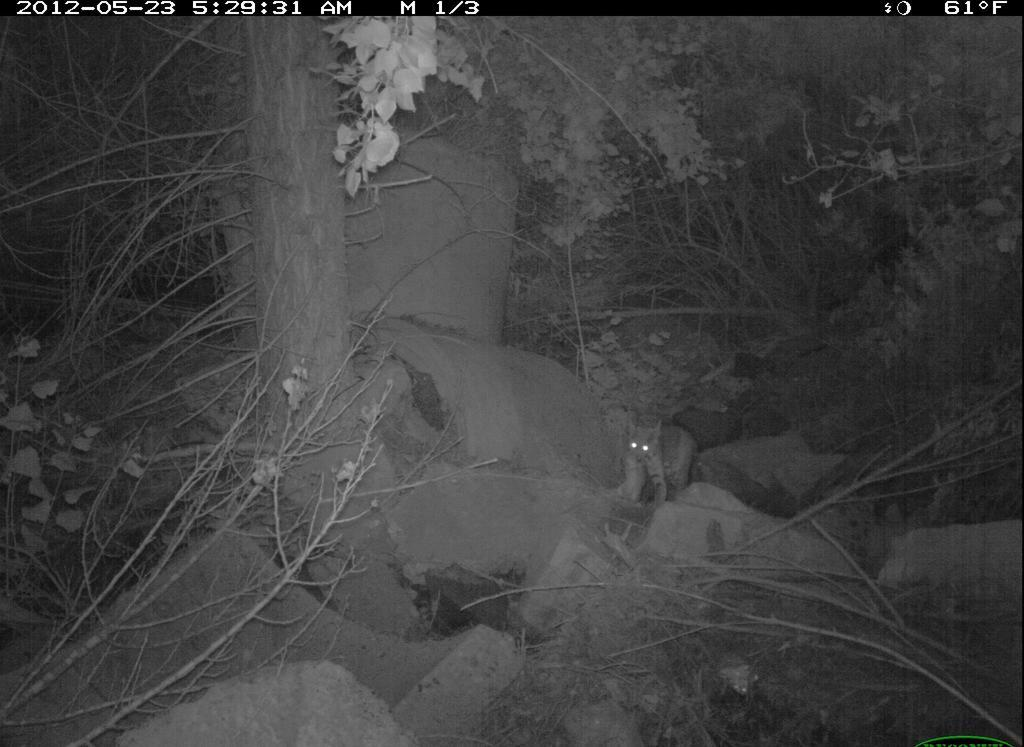bobcat: (624, 413, 703, 519)
